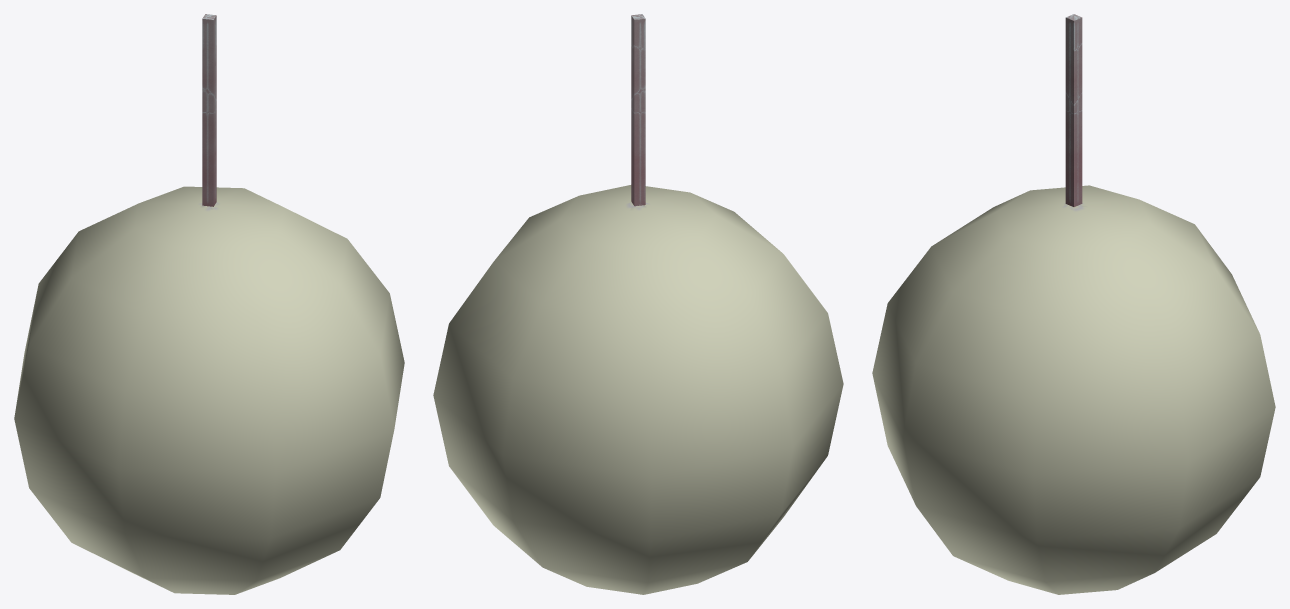
Rendered from station lamp 2.fbx.
3 views of the same model, side by side, from view 1: azimuth 30°, elevation 25°; view 2: azimuth 150°, elevation 25°; view 3: azimuth 270°, elevation 25° (orthographic).
Visible parts, largest first — view 1: lamp 2_low; view 2: lamp 2_low; view 3: lamp 2_low.
Part boxes in pixels (bbox=[...]): lamp 2_low: bbox=[14, 14, 404, 594]; lamp 2_low: bbox=[433, 14, 843, 594]; lamp 2_low: bbox=[872, 14, 1275, 594].
Size of the model in its own units: 98.08 by 98.08 by 150.
